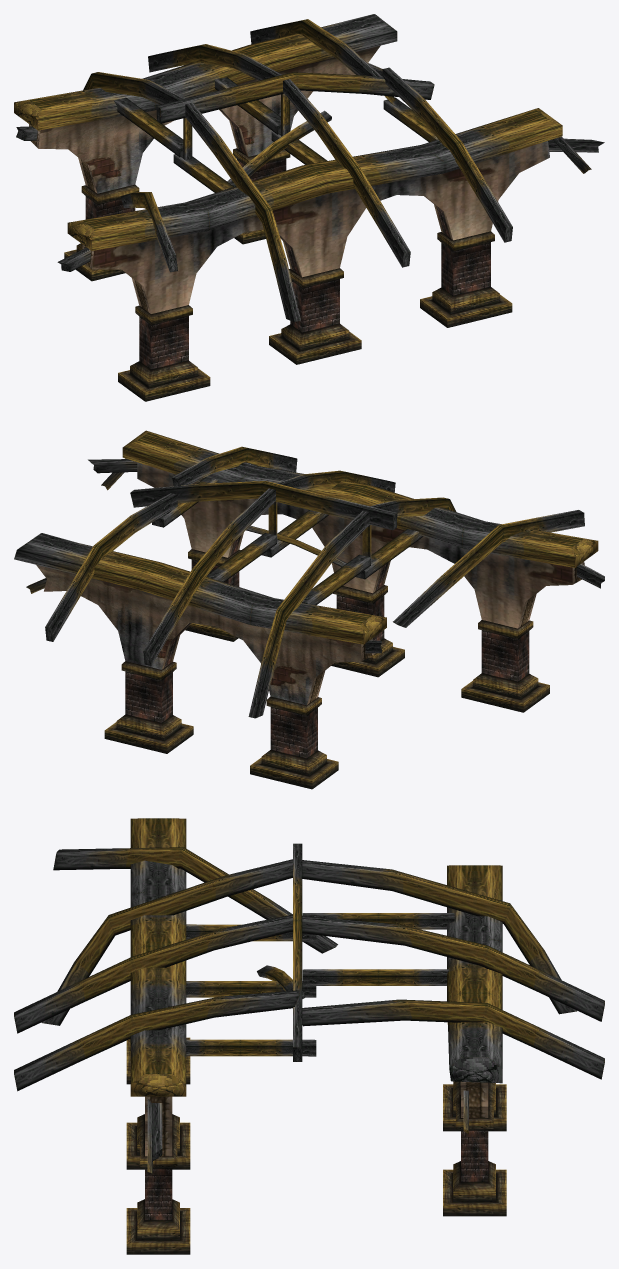
File: CB_ARENA_BUILDING01.fbx
3 renders of one model, top to bottom at view 1: azimuth 30°, elevation 25°; view 2: azimuth 150°, elevation 25°; view 3: azimuth 270°, elevation 25°, orthographic. The views are drawn at different scales.
Visible parts, largest first — view 1: CB_ARENA_BUILDING01; view 2: CB_ARENA_BUILDING01; view 3: CB_ARENA_BUILDING01.
Part boxes in pixels (x1,y1,x2,y2): CB_ARENA_BUILDING01: (14,14,604,401); CB_ARENA_BUILDING01: (14,430,604,789); CB_ARENA_BUILDING01: (14,818,604,1254).
Bounding box in the file's own units: 287446 × 110935 × 234433.
7 materials, 7 textured.
